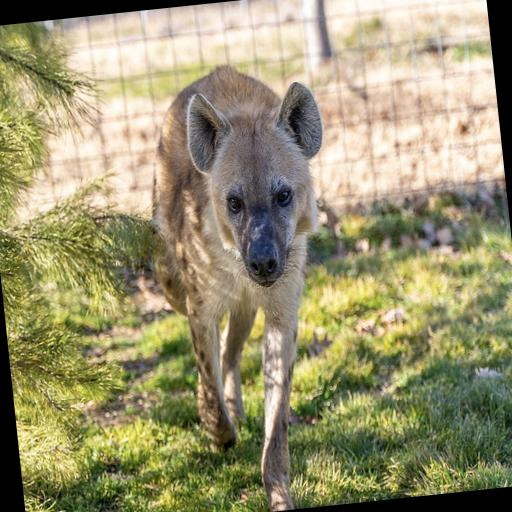hyenas: (88, 24, 411, 512)
